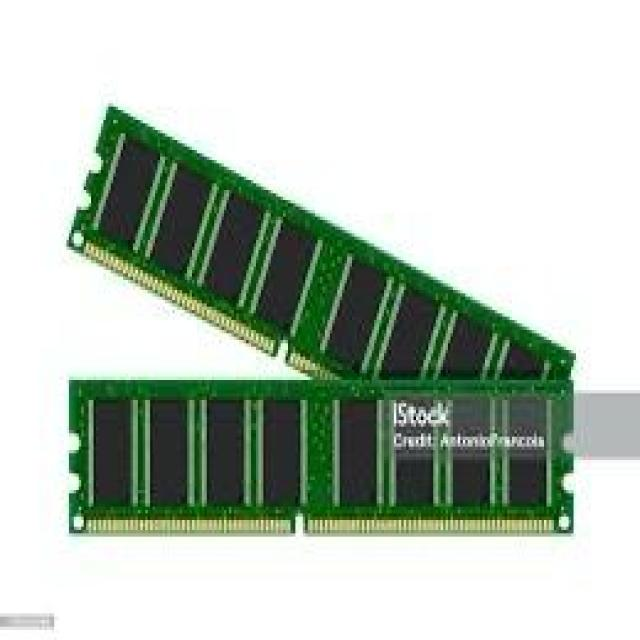Ram: (65, 93, 610, 589)
